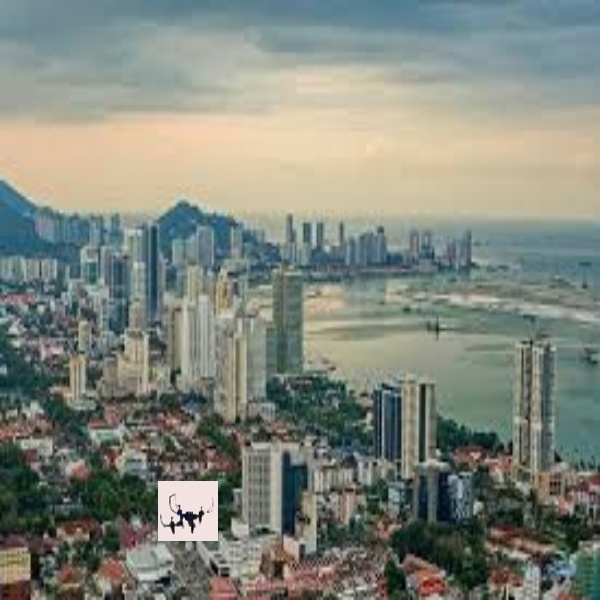drone: (156, 488, 212, 538)
